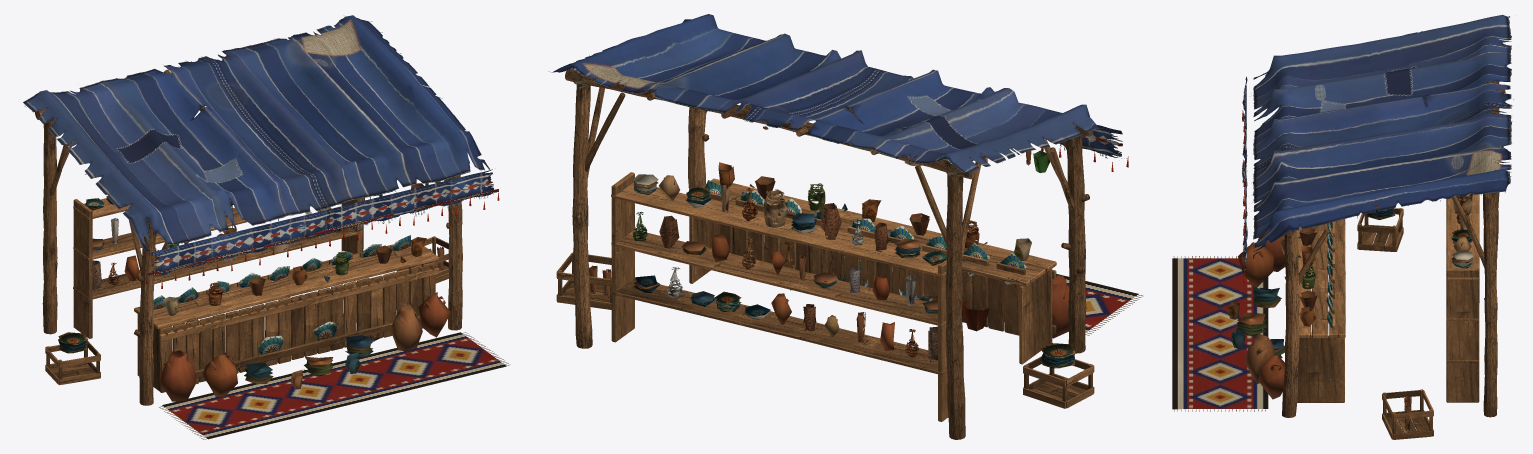
Rendered from village-kiosk-3-v4-lite.glb.
3 views of the same model, side by side, from view 1: azimuth 30°, elevation 25°; view 2: azimuth 150°, elevation 25°; view 3: azimuth 270°, elevation 25° (orthographic). The views are drawn at different scales.
Visible parts, largest first — view 1: K3_Cloth, K3_Wood, K3_Props, K3_Bark; view 2: K3_Wood, K3_Cloth, K3_Props, K3_Bark; view 3: K3_Cloth, K3_Props, K3_Wood, K3_Bark.
Boxes of the visible parts, <box> form: K3_Cloth: <box>23,15,495,277</box>; K3_Wood: <box>45,198,448,392</box>; K3_Props: <box>58,180,510,439</box>; K3_Bark: <box>35,39,462,405</box>; K3_Wood: <box>556,137,1094,421</box>; K3_Cloth: <box>548,14,1126,174</box>; K3_Props: <box>573,75,1143,368</box>; K3_Bark: <box>565,69,1093,439</box>; K3_Cloth: <box>1242,14,1513,272</box>; K3_Props: <box>1172,110,1499,432</box>; K3_Wood: <box>1297,194,1479,439</box>; K3_Bark: <box>1282,39,1505,417</box>.
Size of the model in its own units: 5.43 by 2.95 by 3.78.
4 materials, 4 textured.
